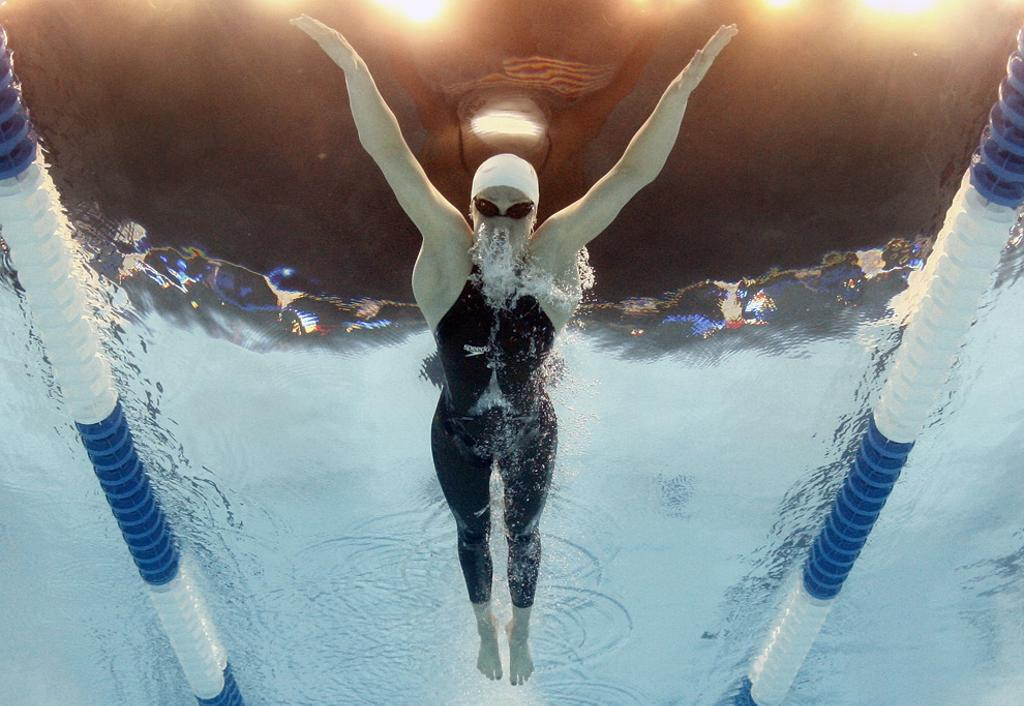face: (472, 170, 528, 258)
